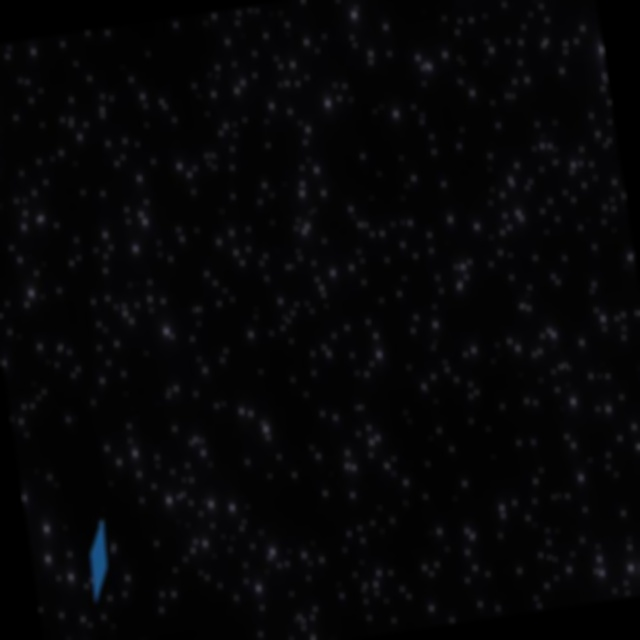large_debris: (81, 515, 122, 608)
